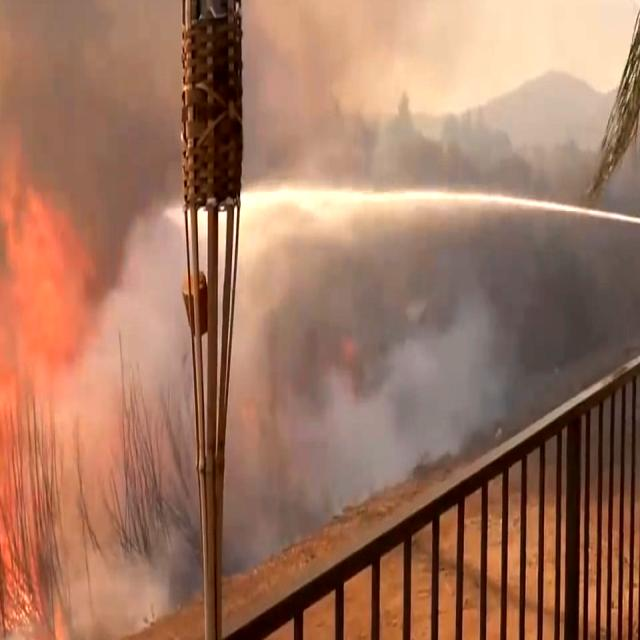fire: (0, 134, 105, 415)
